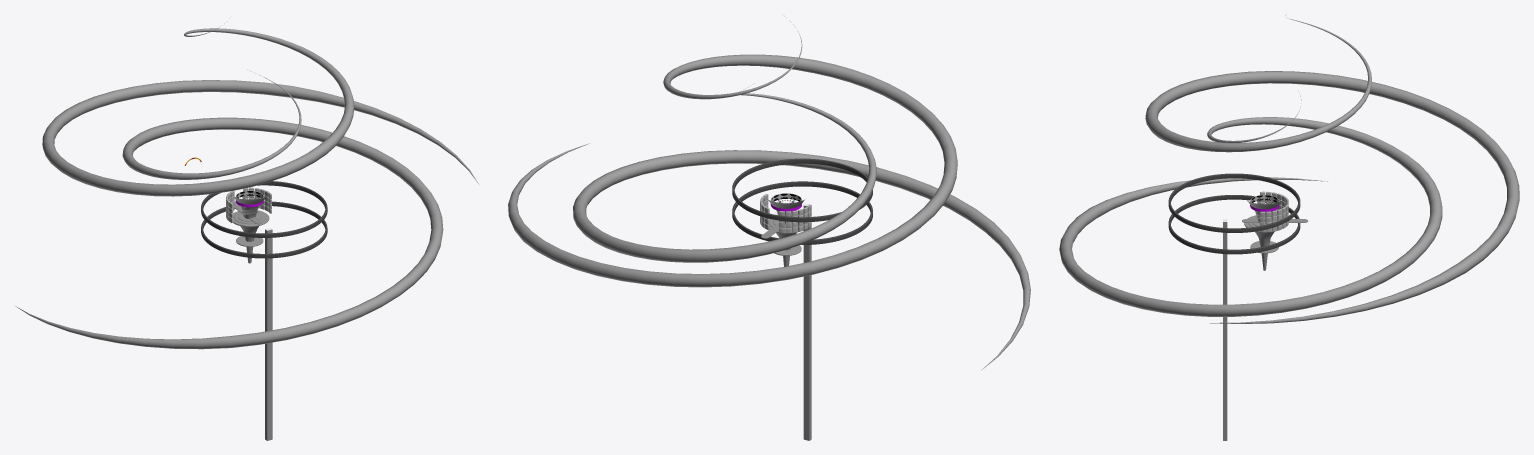
File: britney.glb
The picture shows the model from 3 angles, left to right: view 1: azimuth 30°, elevation 25°; view 2: azimuth 150°, elevation 25°; view 3: azimuth 270°, elevation 25°; orthographic projection. The views are drawn at different scales.
Visible parts, largest first — view 1: SpiralTube (×2), OuterTubeStageConstructionMesh (×2), Construction, StageConstructionRingMeshTop; view 2: SpiralTube (×2), OuterTubeStageConstructionMesh (×2), Construction; view 3: SpiralTube (×2), OuterTubeStageConstructionMesh (×2), Construction.
Part boxes in pixels (x1,y1,x2,y2): SpiralTube (×2): (15,18,478,349); OuterTubeStageConstructionMesh (×2): (201,181,327,258); Construction: (265,229,272,440); StageConstructionRingMeshTop: (233,196,269,226); SpiralTube (×2): (508,16,1030,370); OuterTubeStageConstructionMesh (×2): (732,158,872,244); Construction: (803,205,811,440); SpiralTube (×2): (1059,14,1519,323); OuterTubeStageConstructionMesh (×2): (1168,173,1300,254); Construction: (1223,222,1227,440).
Size of the model in its own units: 234 by 218 by 215.
17 materials, 6 textured.
